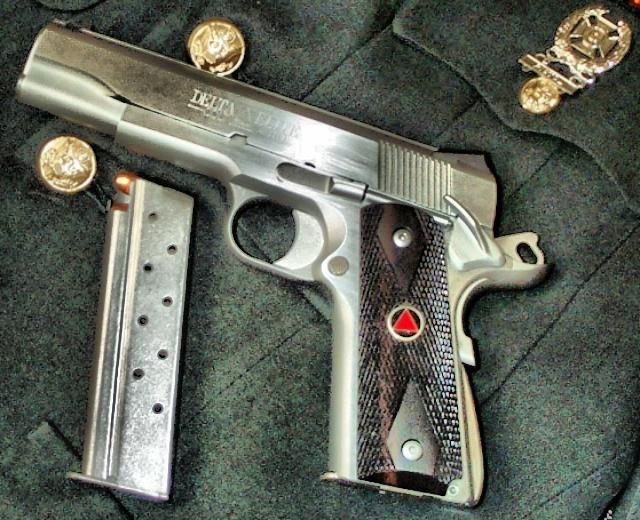pistol: (7, 14, 550, 508)
